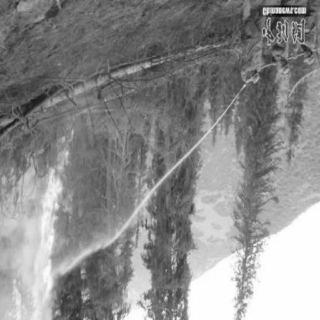Fire: (28, 132, 78, 314)
